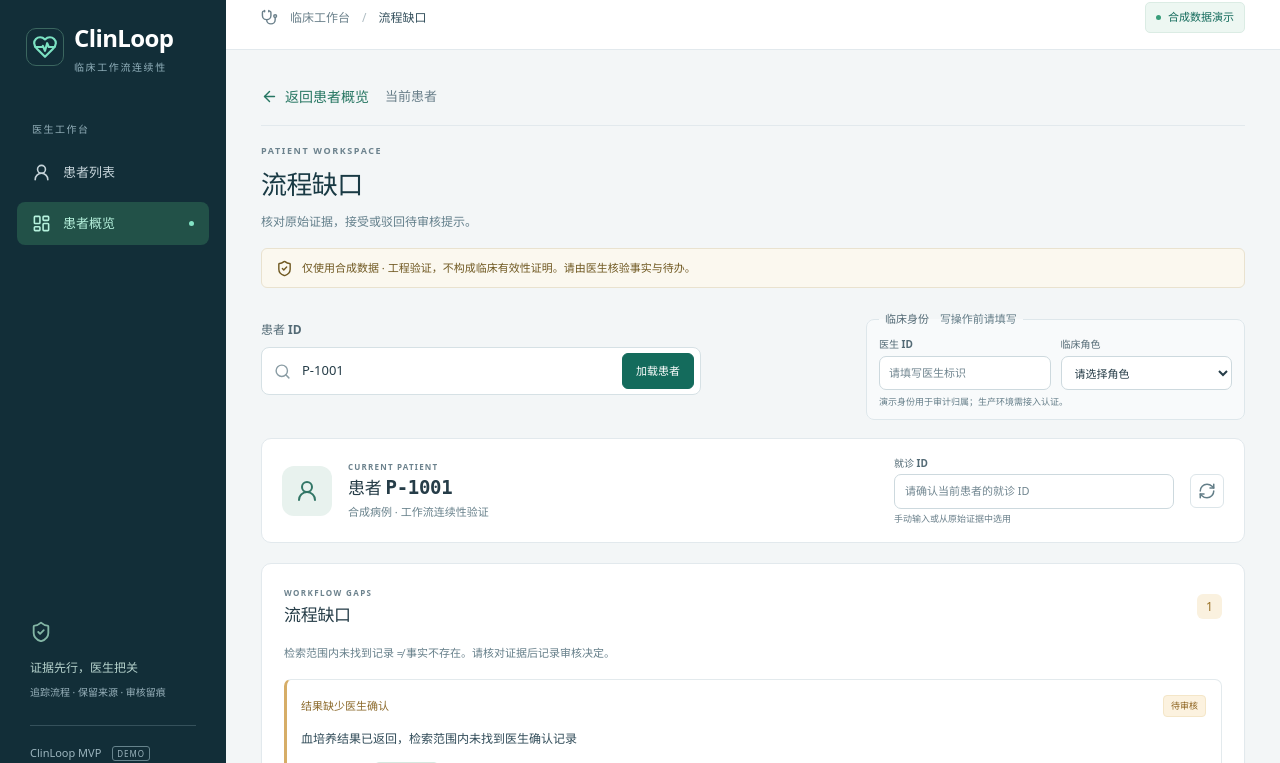
it: finding review › retains review dialog and entered reason on API failure for retry
Type "DR-EXPLICIT" into the field labelled "医生 ID" at (965, 373), box x1=879 y1=356 x2=1050 y2=390
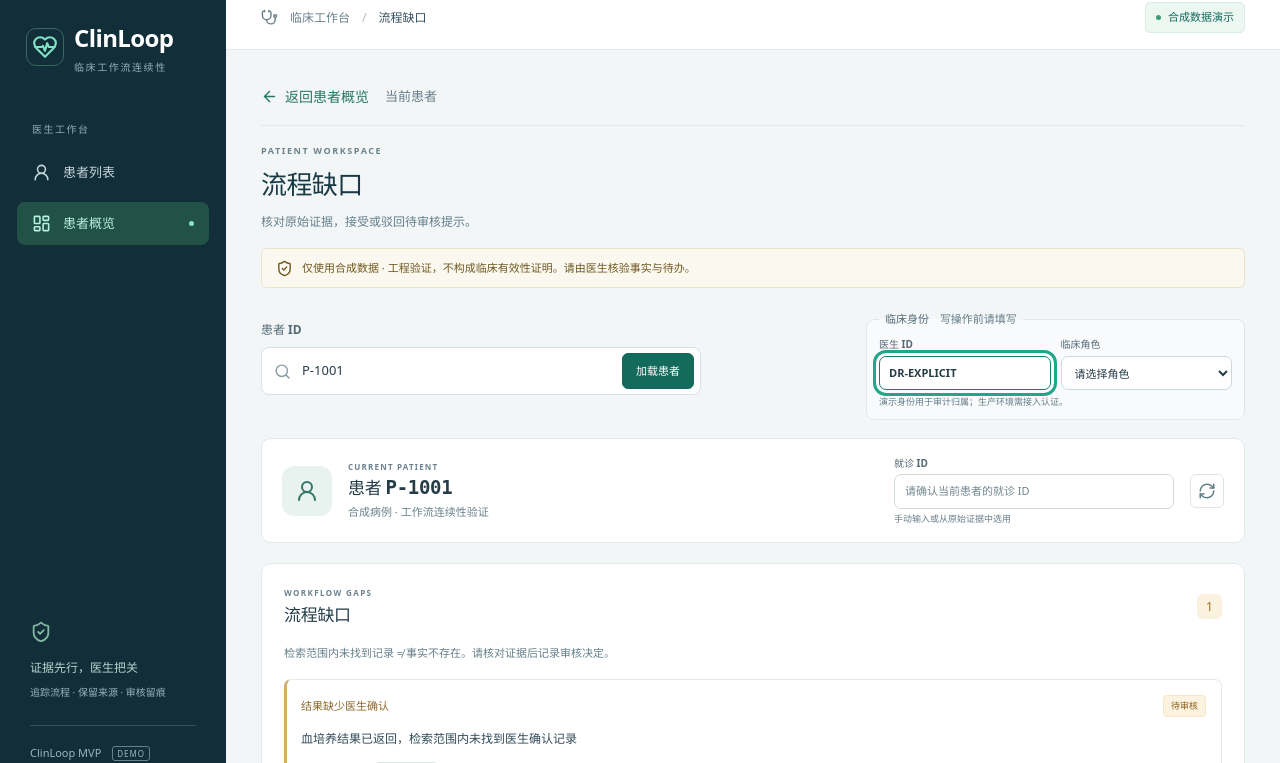
Select "医生 · PHYSICIAN" in the dropdown labelled "临床角色" at (1146, 373), box x1=1060 y1=356 x2=1232 y2=390
(page scrolled)
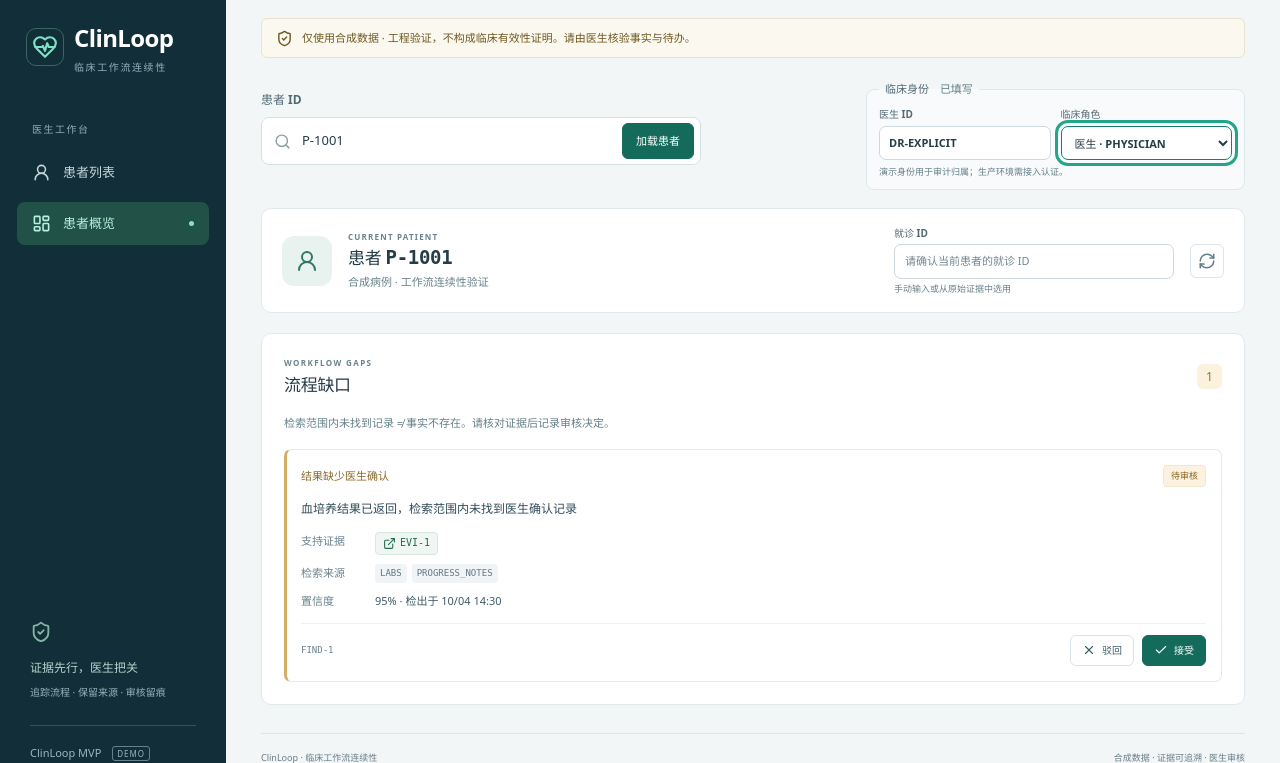
Click the button "驳回" at (1102, 650), box x1=1070 y1=635 x2=1134 y2=666
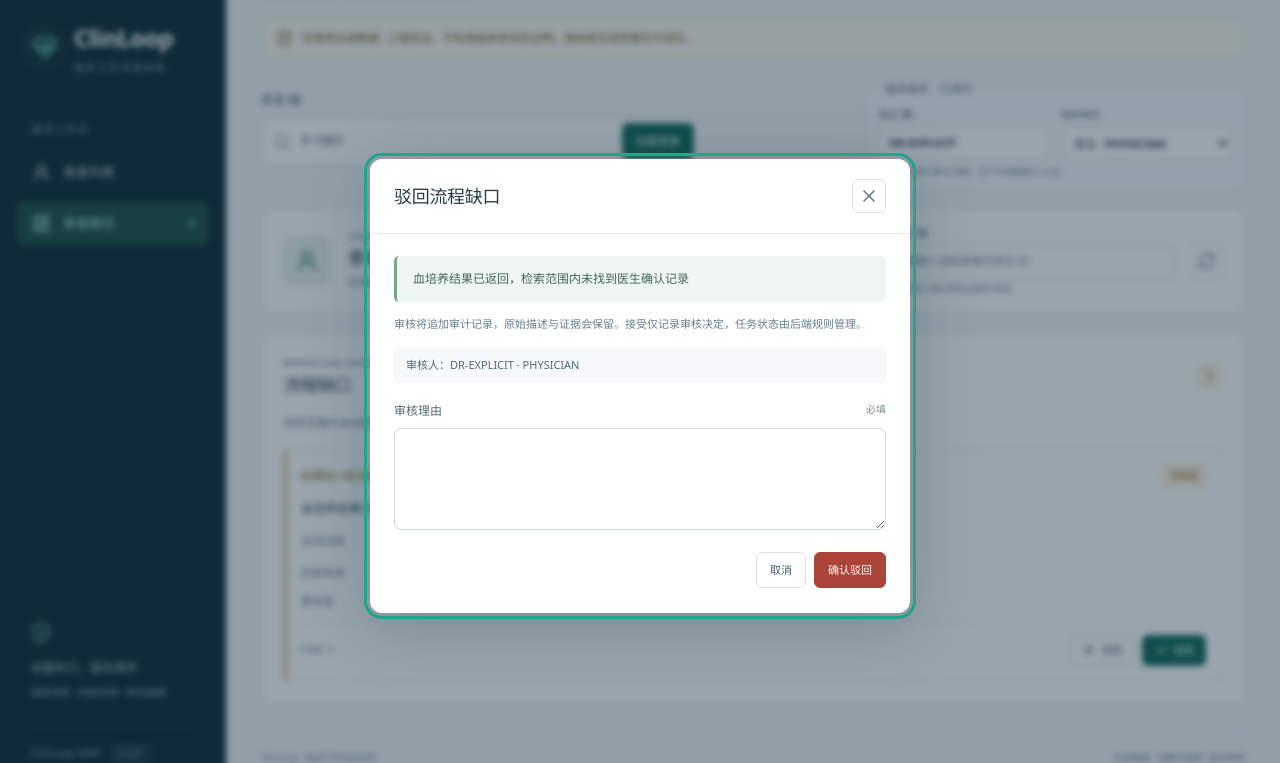
Type "待核实来源" into the text box labelled "审核理由" at (640, 479), box x1=394 y1=428 x2=886 y2=530
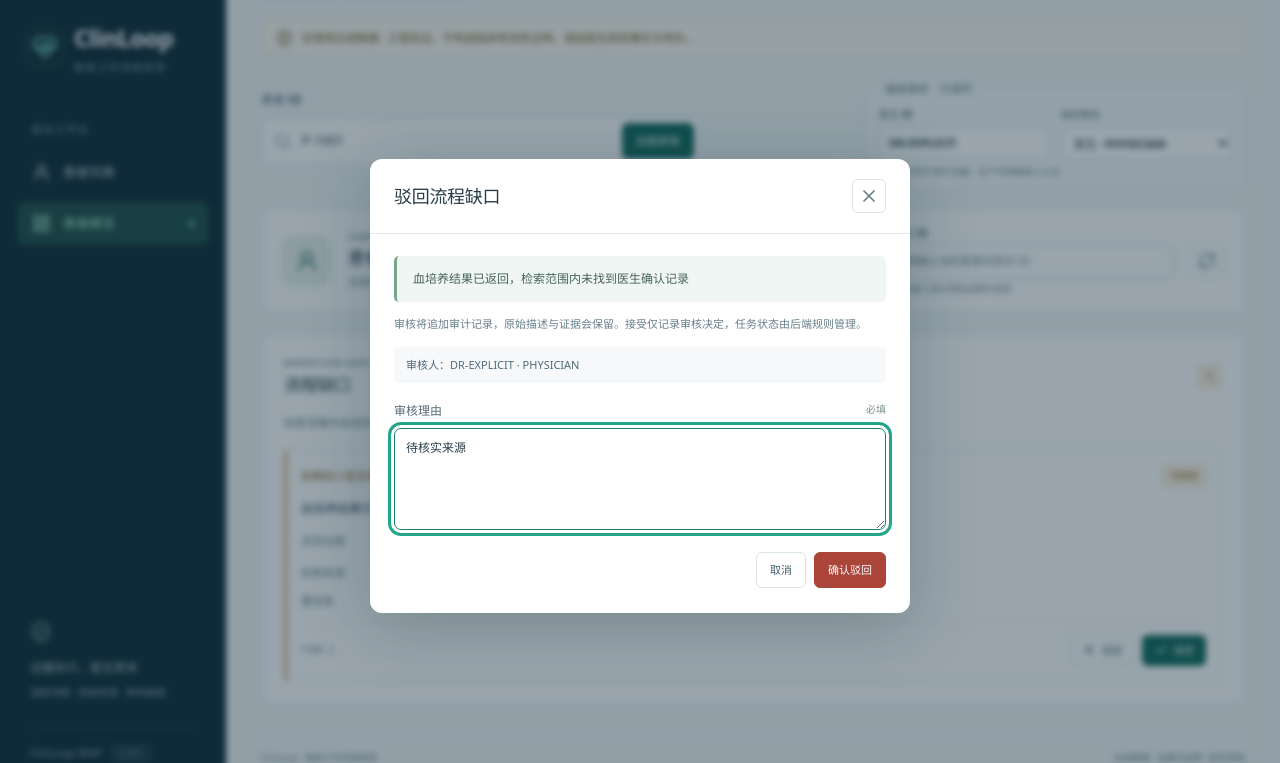
Click the button "确认驳回" at (850, 570), box x1=814 y1=552 x2=886 y2=588
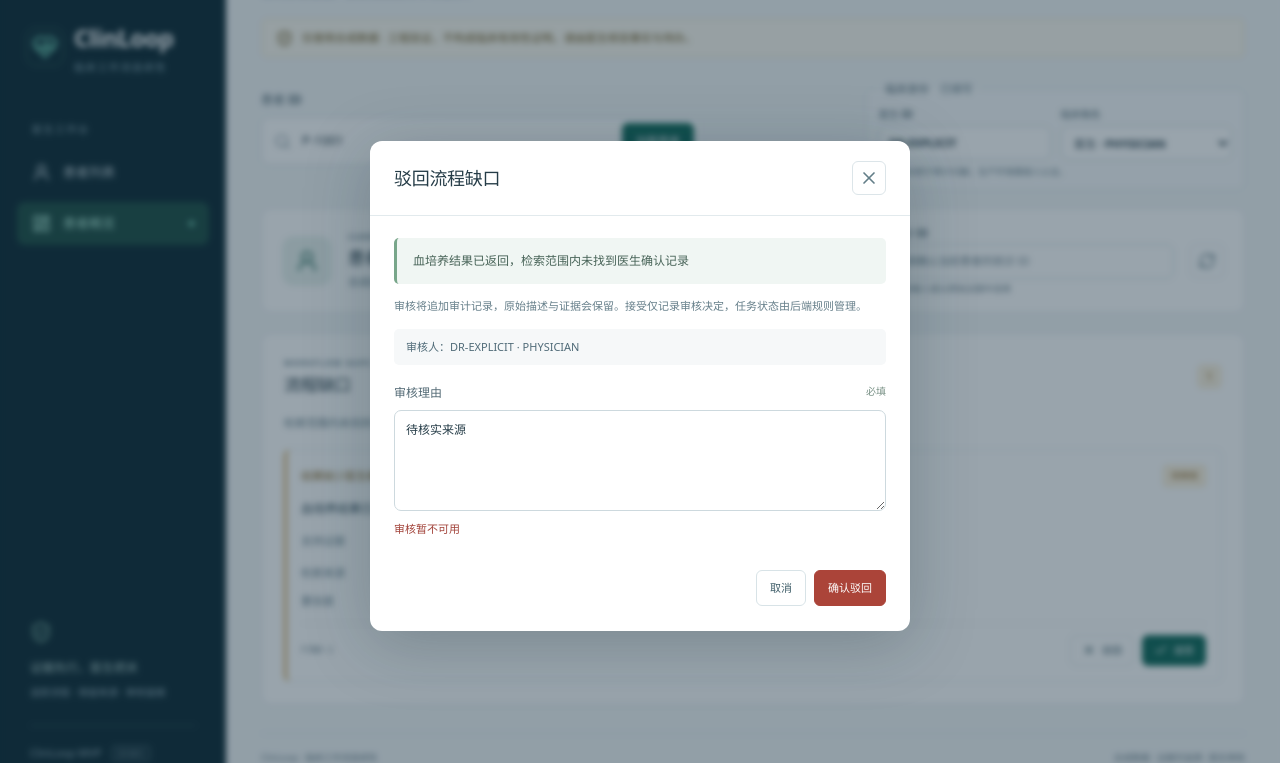
Now the text "审核暂不可用" is shown, box x1=394 y1=522 x2=460 y2=536
Click the button "确认驳回" at (850, 588), box x1=814 y1=570 x2=886 y2=606
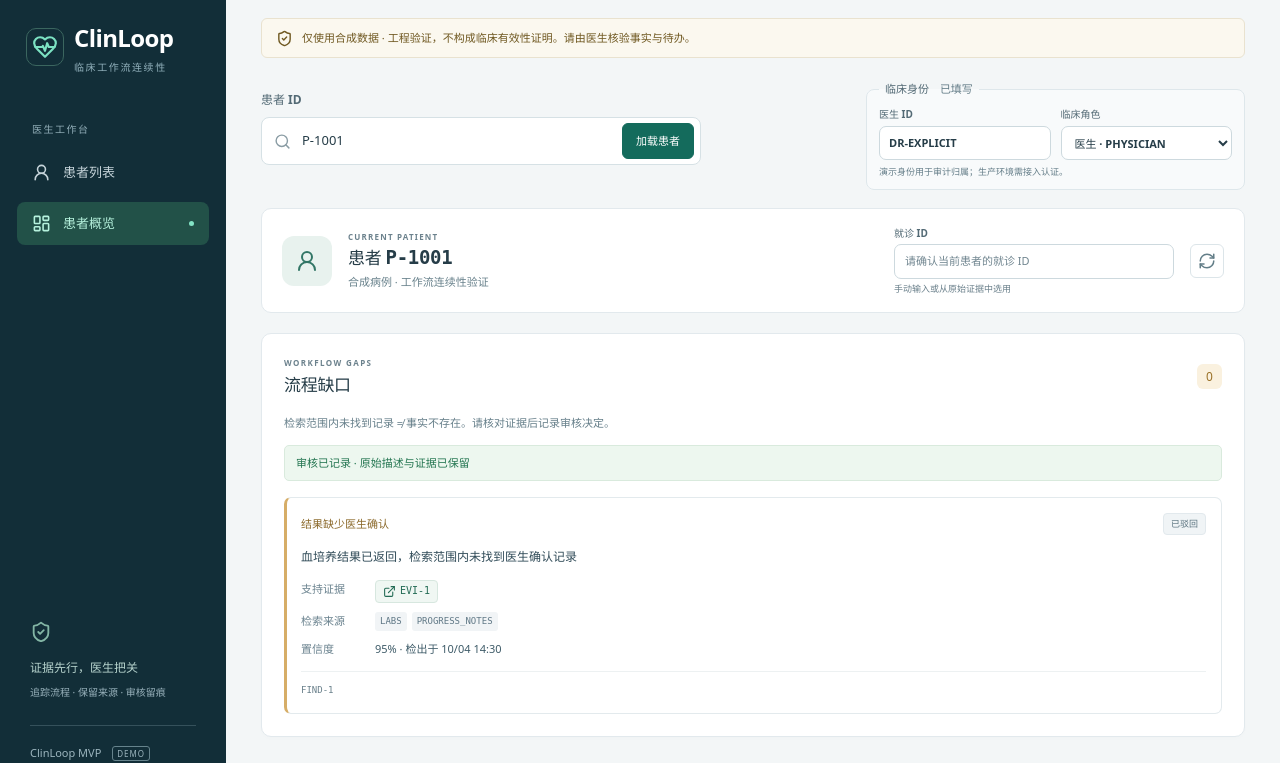
Now the text "已驳回" is shown, box x1=1163 y1=513 x2=1206 y2=535
